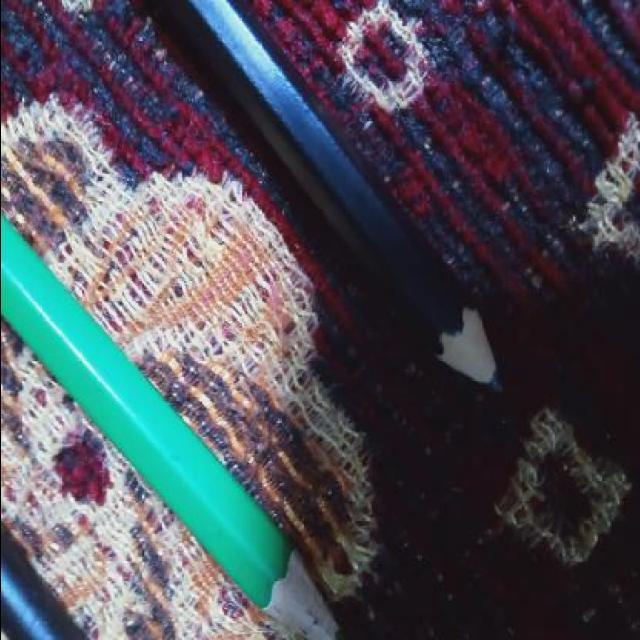pencil: (422, 289, 520, 420)
